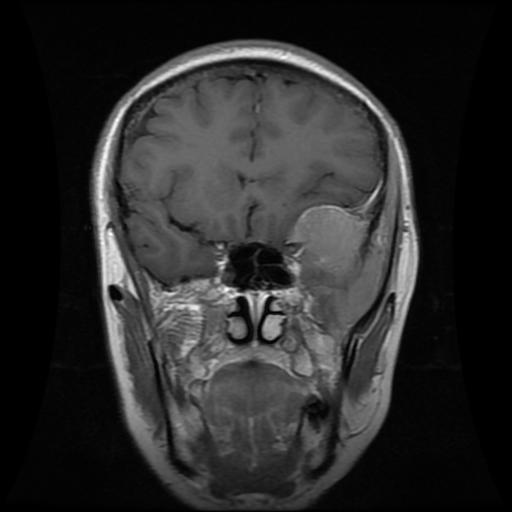Menigiomia_tumour: (289, 204, 368, 272)
